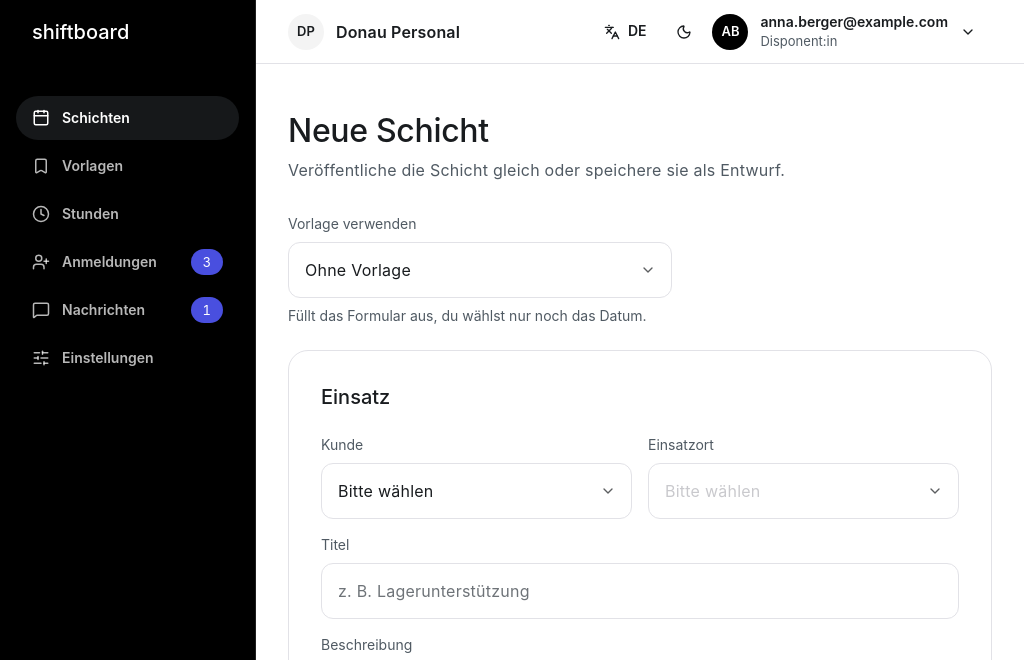
Test: shift templates › using › leaves out a qualification that no longer exists and says so
Select "Gala Nachtservice" in the dropdown labelled "Vorlage verwenden" at (480,270), box x1=288 y1=242 x2=672 y2=298
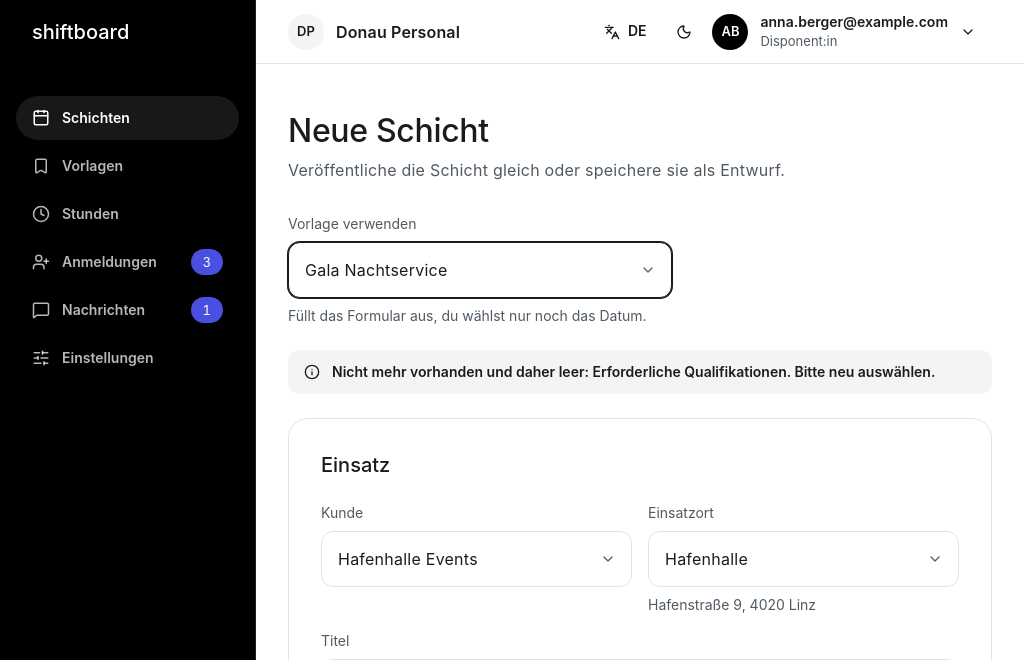
Expected: the message shows "Nicht mehr vorhanden und daher leer: Erforderliche Qualifikationen.", x1=332 y1=363 x2=935 y2=380
Expected: the dropdown labelled "Kunde" shows "Hafenhalle Events", x1=321 y1=531 x2=632 y2=587
